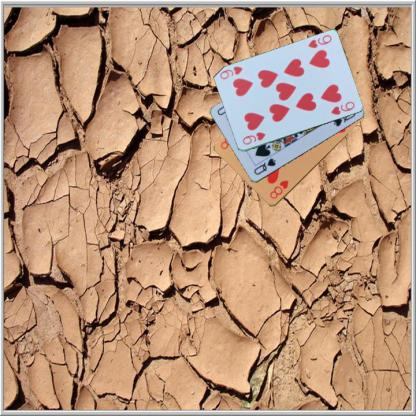8h: (267, 178, 289, 200)
9h: (305, 32, 333, 50), (240, 130, 267, 146)
Qs: (251, 156, 277, 176)
